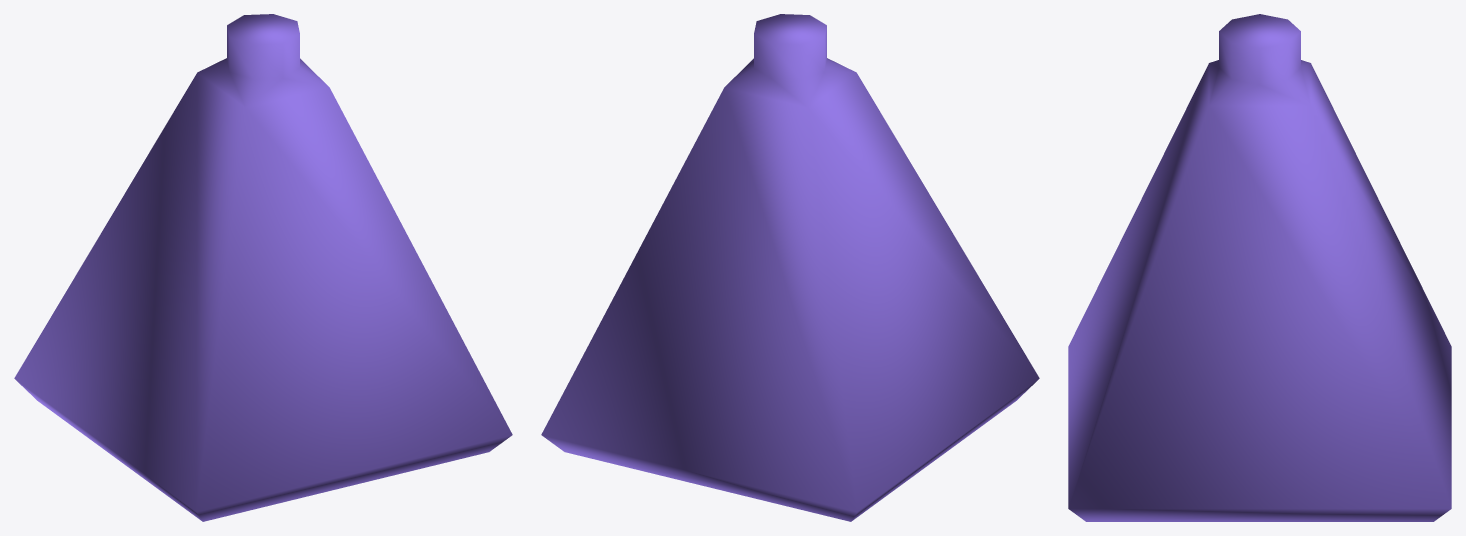
Rendered from bottle3_lowpoly_liquid.fbx.
3 renders of one model, left to right at view 1: azimuth 30°, elevation 25°; view 2: azimuth 150°, elevation 25°; view 3: azimuth 270°, elevation 25°, orthographic. The views are drawn at different scales.
Visible parts, largest first — view 1: bottle3.lowpoly.liquid; view 2: bottle3.lowpoly.liquid; view 3: bottle3.lowpoly.liquid.
Part boxes in pixels (<box>): bottle3.lowpoly.liquid: <box>14,14,512,521</box>; bottle3.lowpoly.liquid: <box>541,14,1039,521</box>; bottle3.lowpoly.liquid: <box>1068,14,1451,521</box>.
Bounding box in the file's own units: 7.99 × 9.59 × 7.99.
